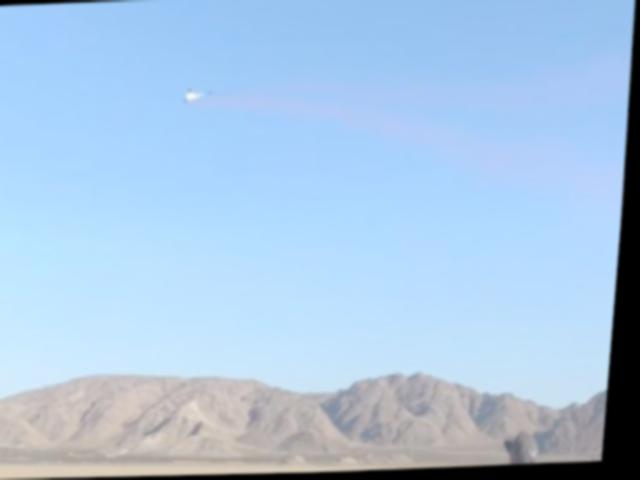iha: (185, 85, 213, 104)
